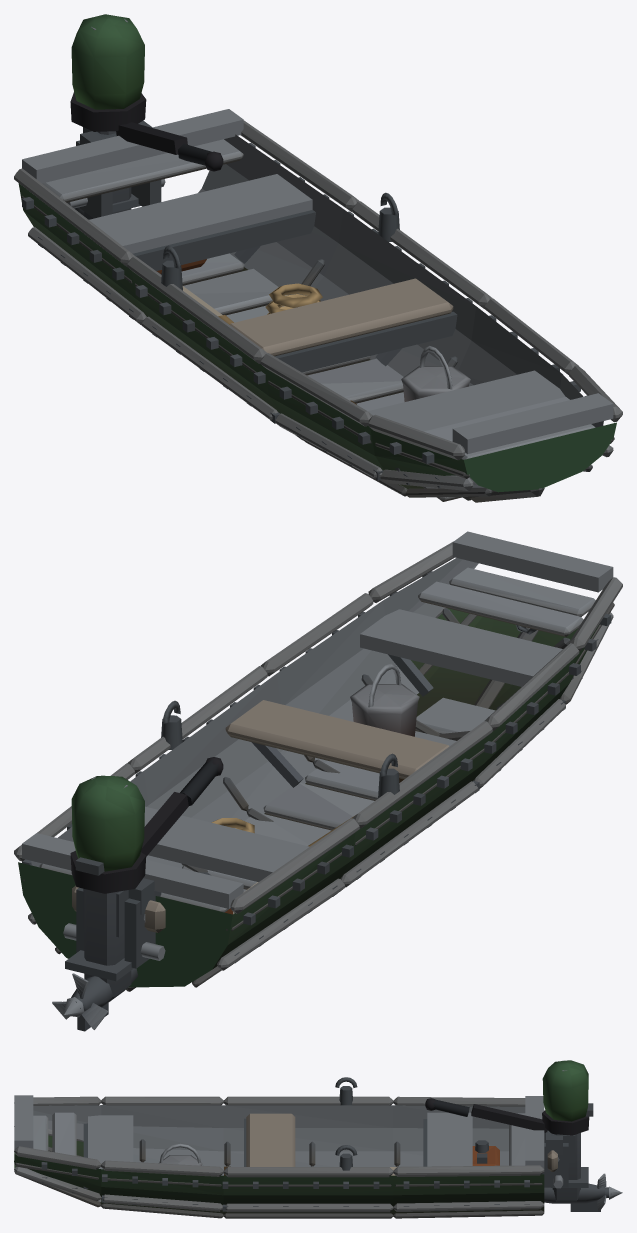
File: jon-boat.glb
The picture shows the model from 3 angles, top to bottom: view 1: azimuth 30°, elevation 25°; view 2: azimuth 150°, elevation 25°; view 3: azimuth 270°, elevation 25°; orthographic projection. The views are drawn at different scales.
Visible parts, largest first — view 1: jon_boat; view 2: jon_boat; view 3: jon_boat.
Boxes of the visible parts, x1=… form: jon_boat: x1=14, y1=14, x2=622, y2=502; jon_boat: x1=14, y1=531, x2=622, y2=1031; jon_boat: x1=14, y1=1060, x2=622, y2=1218.
Bounding box in the file's own units: 0.935 × 0.8651 × 3.23.
